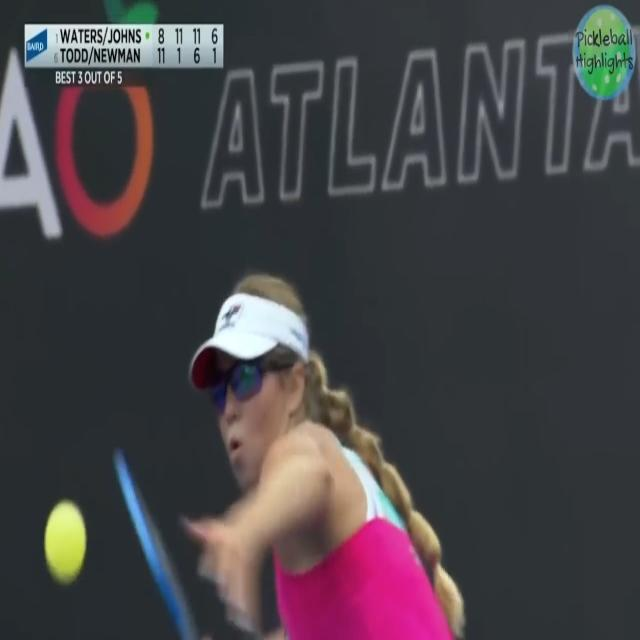Pickleball: (40, 492, 88, 586)
